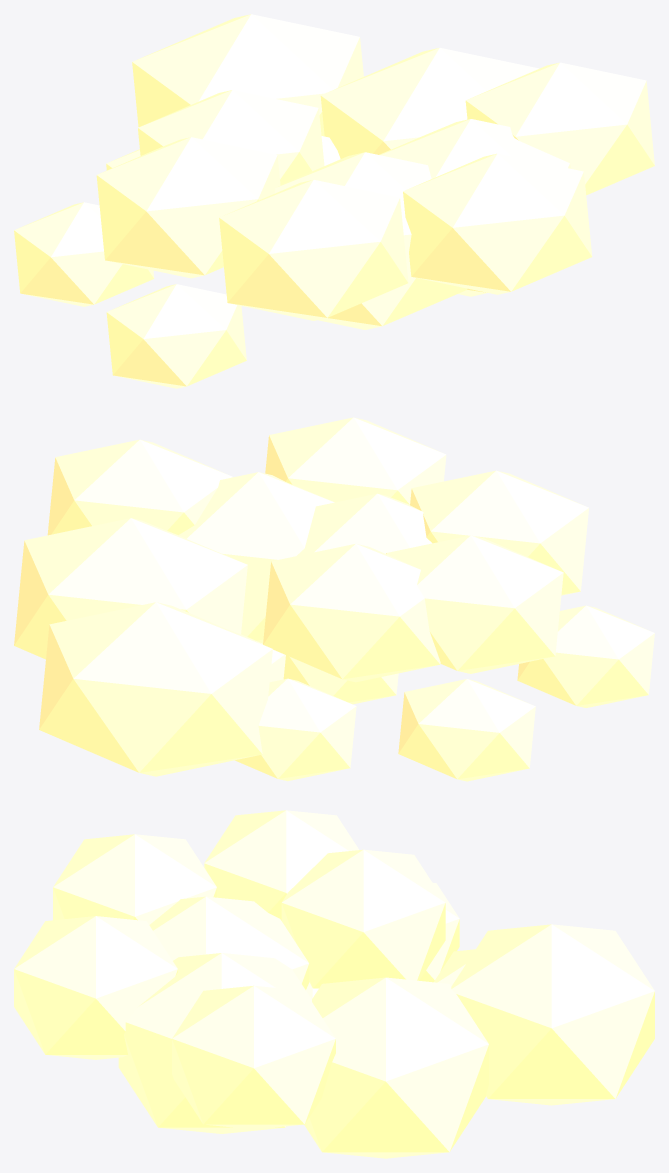
File: gold_pile.glb
3 views of the same model, one above another, from view 1: azimuth 30°, elevation 25°; view 2: azimuth 150°, elevation 25°; view 3: azimuth 270°, elevation 25° (orthographic). The views are drawn at different scales.
Visible parts, largest first — view 1: Nug7, Nug10, Nug4, Nug11, Nug13, Nug8, Nug12, Nug1, Nug9, Nug2, Nug5; view 2: Nug11, Nug8, Nug1, Nug4, Nug13, Nug7, Nug9, Nug10, Nug5, Nug12, Nug6, Nug2 (+1 smaller); view 3: Nug11, Nug8, Nug13, Nug1, Nug10, Nug5, Nug7, Nug4, Nug2, Nug9, Nug6.
Boxes of the visible parts, <box> form: Nug7: <box>219,179,408,320</box>; Nug10: <box>403,153,592,294</box>; Nug4: <box>96,137,280,278</box>; Nug11: <box>132,14,363,136</box>; Nug13: <box>465,62,654,195</box>; Nug8: <box>320,47,538,158</box>; Nug12: <box>106,284,246,388</box>; Nug1: <box>138,90,324,184</box>; Nug9: <box>14,202,154,306</box>; Nug2: <box>274,152,467,329</box>; Nug5: <box>379,119,571,296</box>; Nug11: <box>39,602,272,776</box>; Nug8: <box>14,518,247,659</box>; Nug1: <box>263,543,440,682</box>; Nug4: <box>386,535,563,673</box>; Nug13: <box>47,439,232,535</box>; Nug7: <box>410,470,588,595</box>; Nug9: <box>398,679,535,781</box>; Nug10: <box>265,417,446,504</box>; Nug5: <box>179,472,334,643</box>; Nug12: <box>517,605,654,707</box>; Nug6: <box>235,678,356,781</box>; Nug2: <box>297,493,431,555</box>; Nug11: <box>451,924,654,1105</box>; Nug8: <box>304,977,488,1158</box>; Nug13: <box>172,985,335,1129</box>; Nug1: <box>281,849,445,988</box>; Nug10: <box>14,916,177,1059</box>; Nug5: <box>118,953,311,1133</box>; Nug7: <box>53,834,216,924</box>; Nug4: <box>204,810,358,920</box>; Nug2: <box>149,896,309,989</box>; Nug9: <box>419,883,459,982</box>; Nug6: <box>434,949,475,986</box>.
Size of the model in its own units: 0.7969 by 0.2645 by 0.7631.
